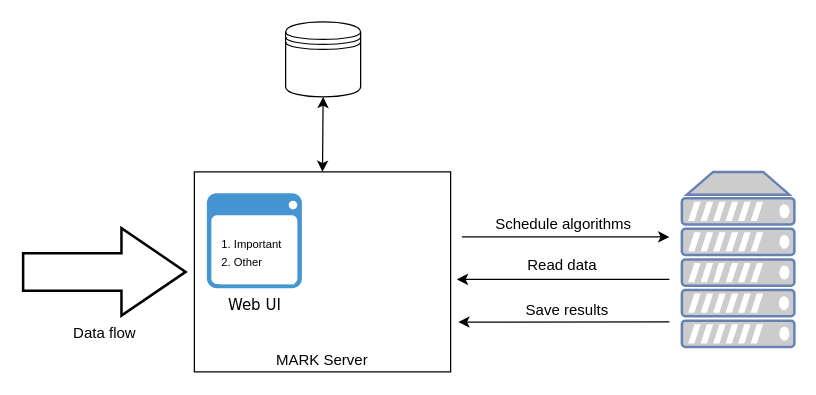
The diagram is 816 pixels wide and 395 high, and some of its shapes have lost their labels. Here are the shapes that lost their labels. From the top down, the centre of each, then its label:
At point 322,59: "Mongo".
At point 737,259: "Compute grid".
